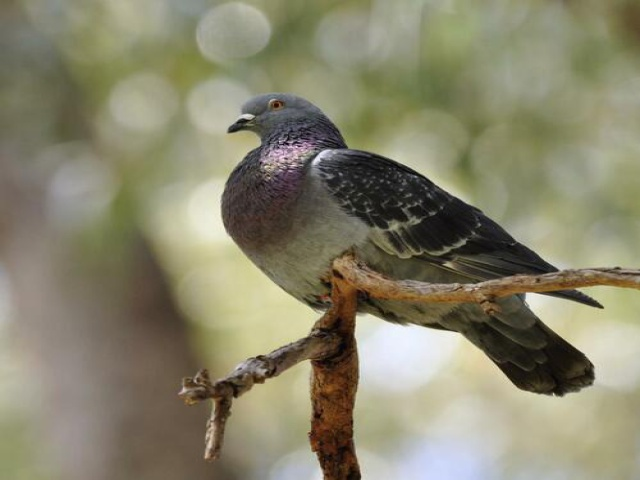Pigeon: (214, 83, 597, 401)
